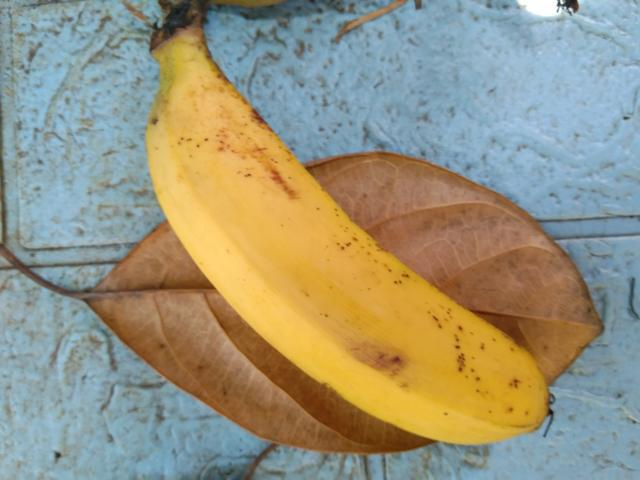ripe: (129, 61, 574, 466)
